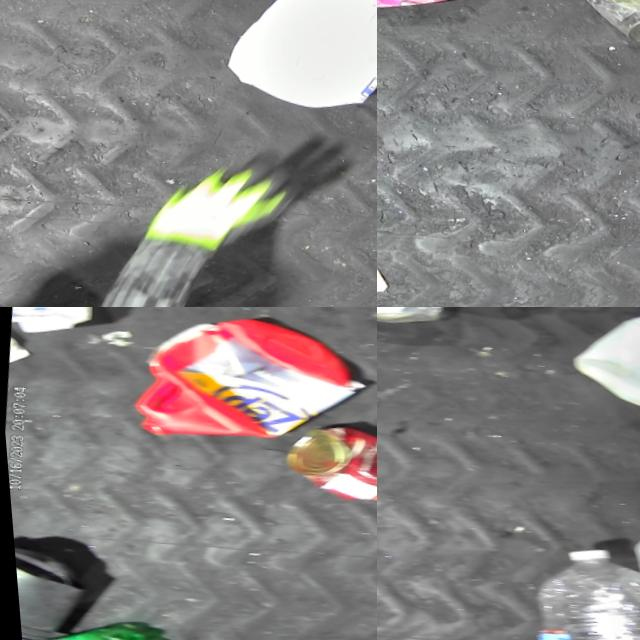can: (271, 418, 377, 521), (572, 0, 640, 60)
milk_jug: (209, 0, 377, 136), (556, 307, 640, 436), (609, 507, 640, 640)
non_white_jug: (116, 307, 366, 467)
plastic_bottle: (505, 541, 640, 640)
